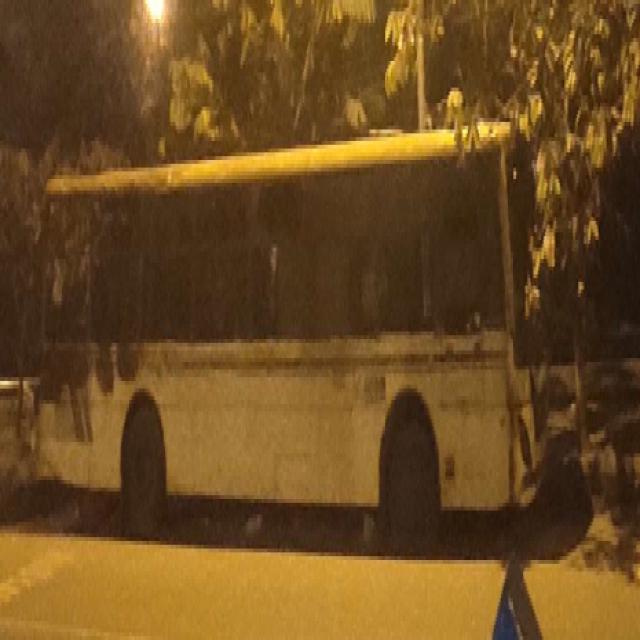bus: (42, 110, 534, 534)
